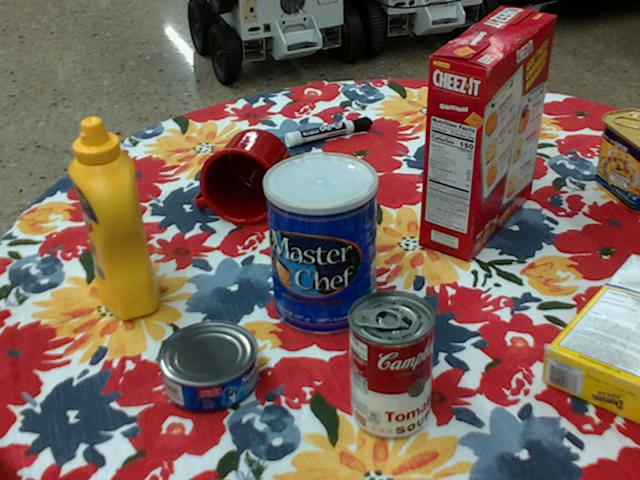cracker_box: (423, 8, 556, 260)
gelatin_box: (443, 109, 509, 159)
large_marker: (283, 114, 371, 146)
master_chef_can: (262, 152, 377, 335)
mug: (194, 128, 289, 226)
mustard_bottle: (69, 118, 161, 319)
potted_meat_can: (595, 108, 639, 212)
sugar_box: (542, 254, 639, 422)
tomato_soup_can: (347, 289, 435, 439)
tuna_fish_can: (155, 320, 256, 411)
